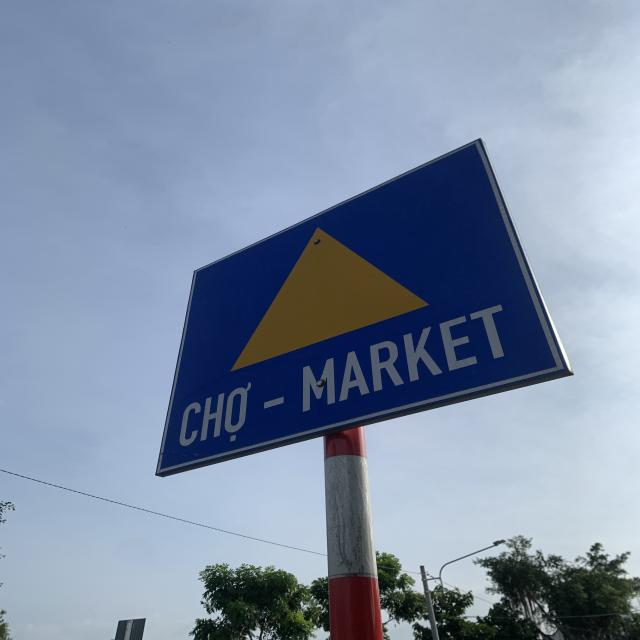Cho_Quay_Xe: (159, 139, 574, 474)
